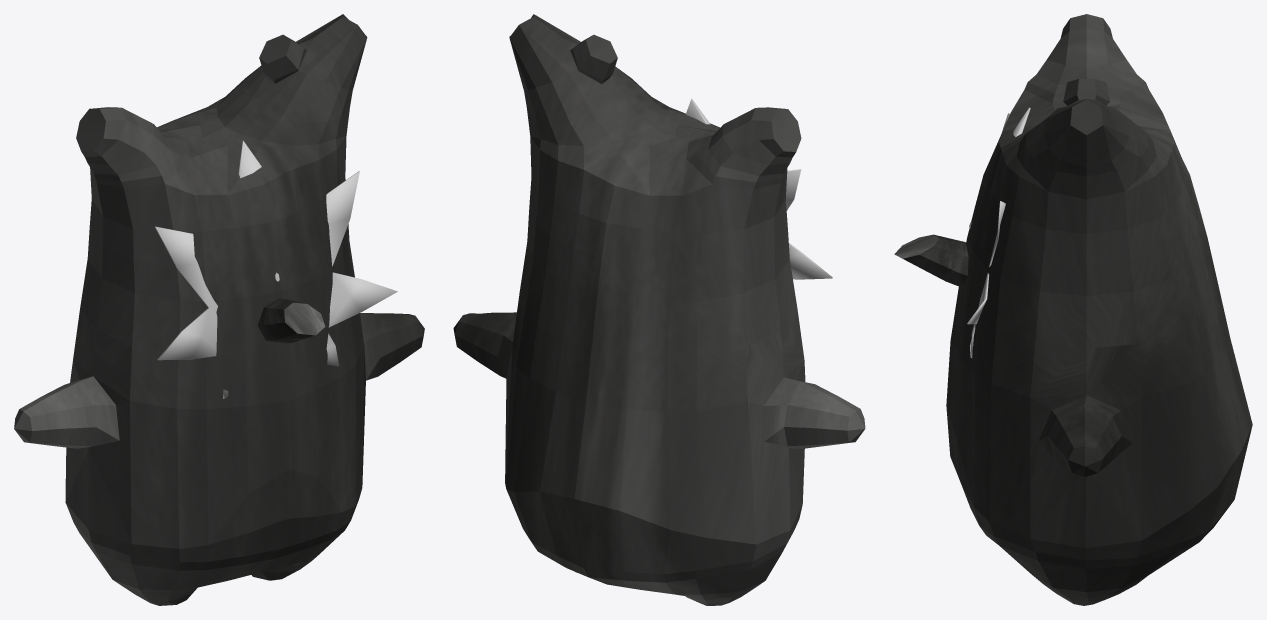
Rendered from frame_0021.obj.
The picture shows the model from 3 angles, left to right: view 1: azimuth 30°, elevation 25°; view 2: azimuth 150°, elevation 25°; view 3: azimuth 270°, elevation 25°; orthographic projection.
Visible parts, largest first — view 1: korok, leaf, nose; view 2: korok, leaf; view 3: korok, nose, leaf.
Boxes of the visible parts, <box> form: korok: <box>14,14,424,605</box>; leaf: <box>155,140,397,398</box>; nose: <box>257,298,325,343</box>; korok: <box>453,14,865,605</box>; leaf: <box>685,98,832,279</box>; korok: <box>946,14,1252,605</box>; nose: <box>894,234,968,287</box>; leaf: <box>967,107,1030,357</box>.
Size of the model in its own units: 1.8 by 2.28 by 1.37.
